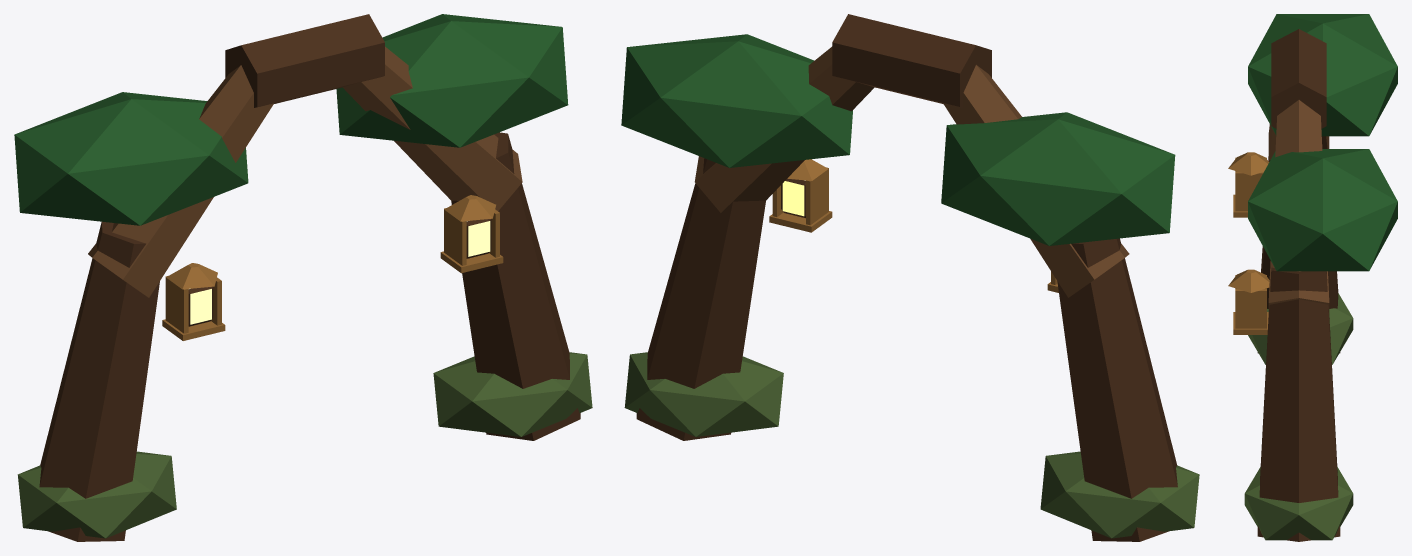
Rendered from lantern_arch.glb.
3 renders of one model, left to right at view 1: azimuth 30°, elevation 25°; view 2: azimuth 150°, elevation 25°; view 3: azimuth 270°, elevation 25°, orthographic. The views are drawn at different scales.
Parts seen in each view (by area): view 1: lantern_arch; view 2: lantern_arch; view 3: lantern_arch.
Boxes of the visible parts, x1,y1,x2,y2 form: lantern_arch: (14, 14, 592, 541); lantern_arch: (621, 14, 1199, 541); lantern_arch: (1228, 14, 1397, 541).
Size of the model in its own units: 3.53 by 2.7 by 1.06.
